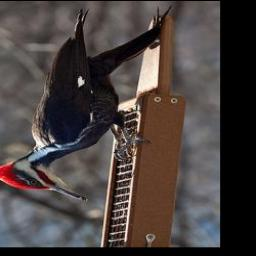Woodpecker: (0, 6, 172, 203)
